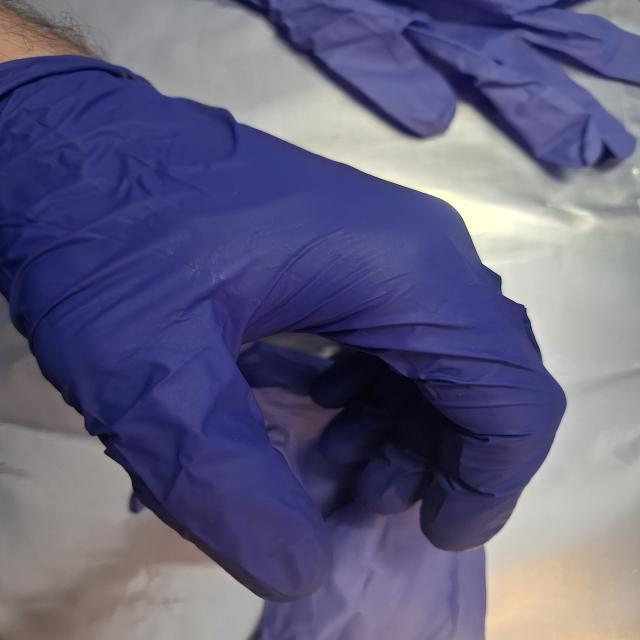glove_on: (0, 49, 572, 606)
